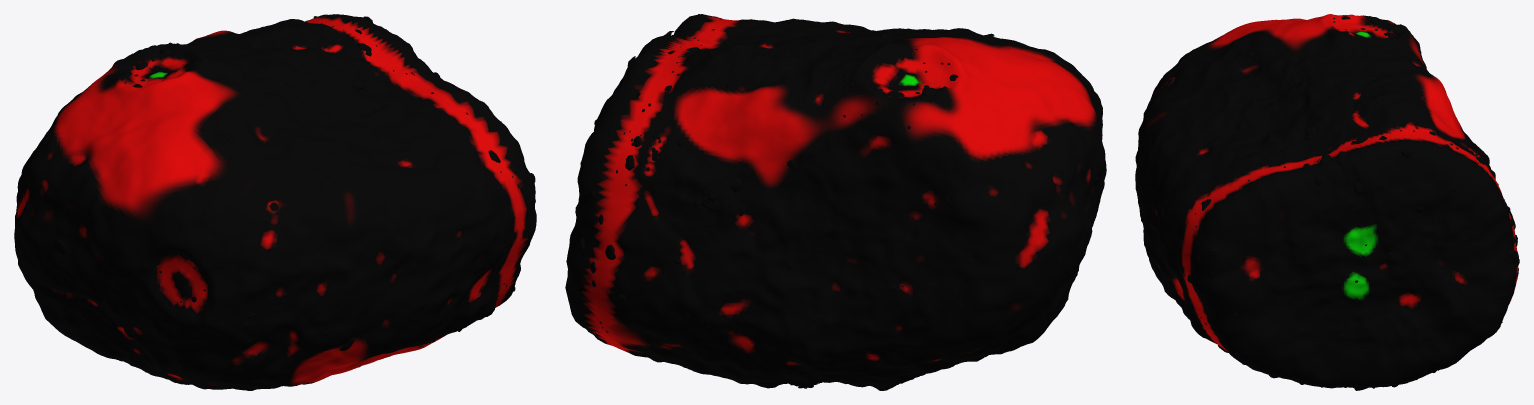
The model's file is comet_e.fbx.
3 views of the same model, side by side, from view 1: azimuth 30°, elevation 25°; view 2: azimuth 150°, elevation 25°; view 3: azimuth 270°, elevation 25° (orthographic). The views are drawn at different scales.
Visible parts, largest first — view 1: comet_e_LOD0; view 2: comet_e_LOD0; view 3: comet_e_LOD0.
Part boxes in pixels (x1,y1,x2,y2): comet_e_LOD0: (14,14,536,390); comet_e_LOD0: (565,14,1106,390); comet_e_LOD0: (1135,14,1519,390).
Size of what is drawn, in the model's own units: 290 by 254 by 203.
